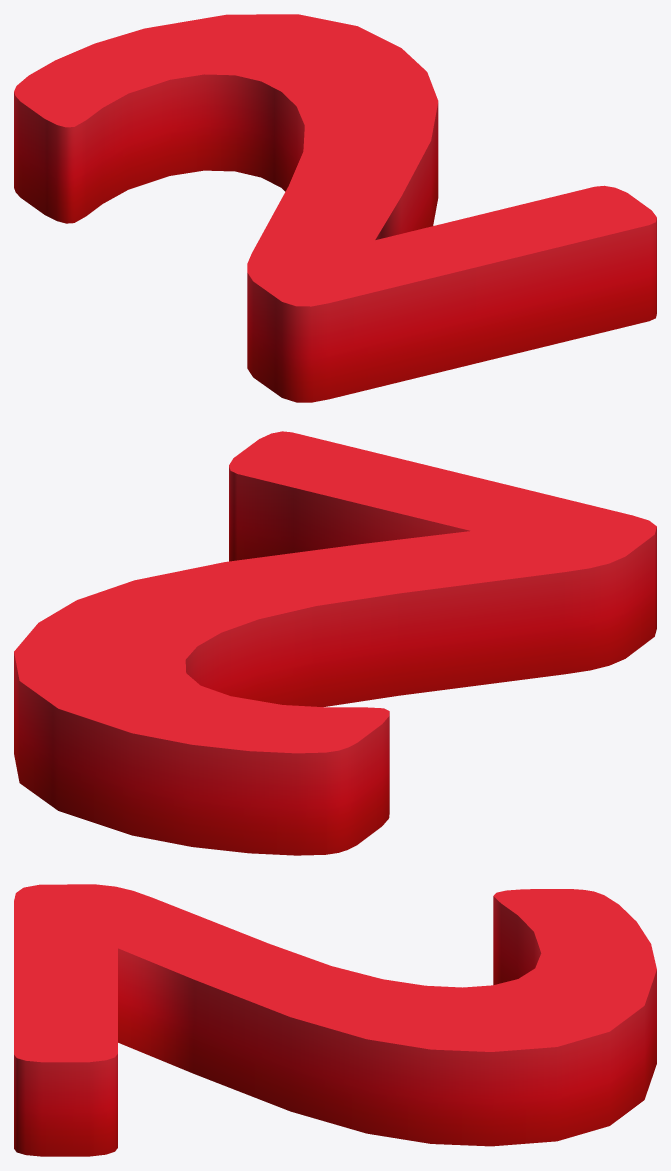
The model's file is figure_2.fbx.
3 views of the same model, one above another, from view 1: azimuth 30°, elevation 25°; view 2: azimuth 150°, elevation 25°; view 3: azimuth 270°, elevation 25° (orthographic). The views are drawn at different scales.
Visible parts, largest first — view 1: figure_2; view 2: figure_2; view 3: figure_2.
Boxes of the visible parts, x1,y1,x2,y2 form: figure_2: (14, 14, 656, 402); figure_2: (14, 431, 656, 855); figure_2: (14, 884, 656, 1156).
Bounding box in the file's own units: 15.17 × 3.75 × 23.16.
